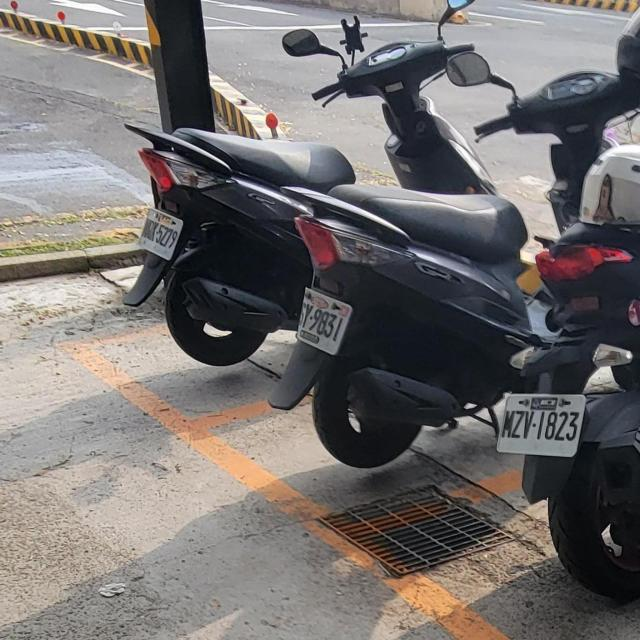W: (496, 390, 587, 459), (293, 284, 355, 356), (137, 204, 185, 262)
